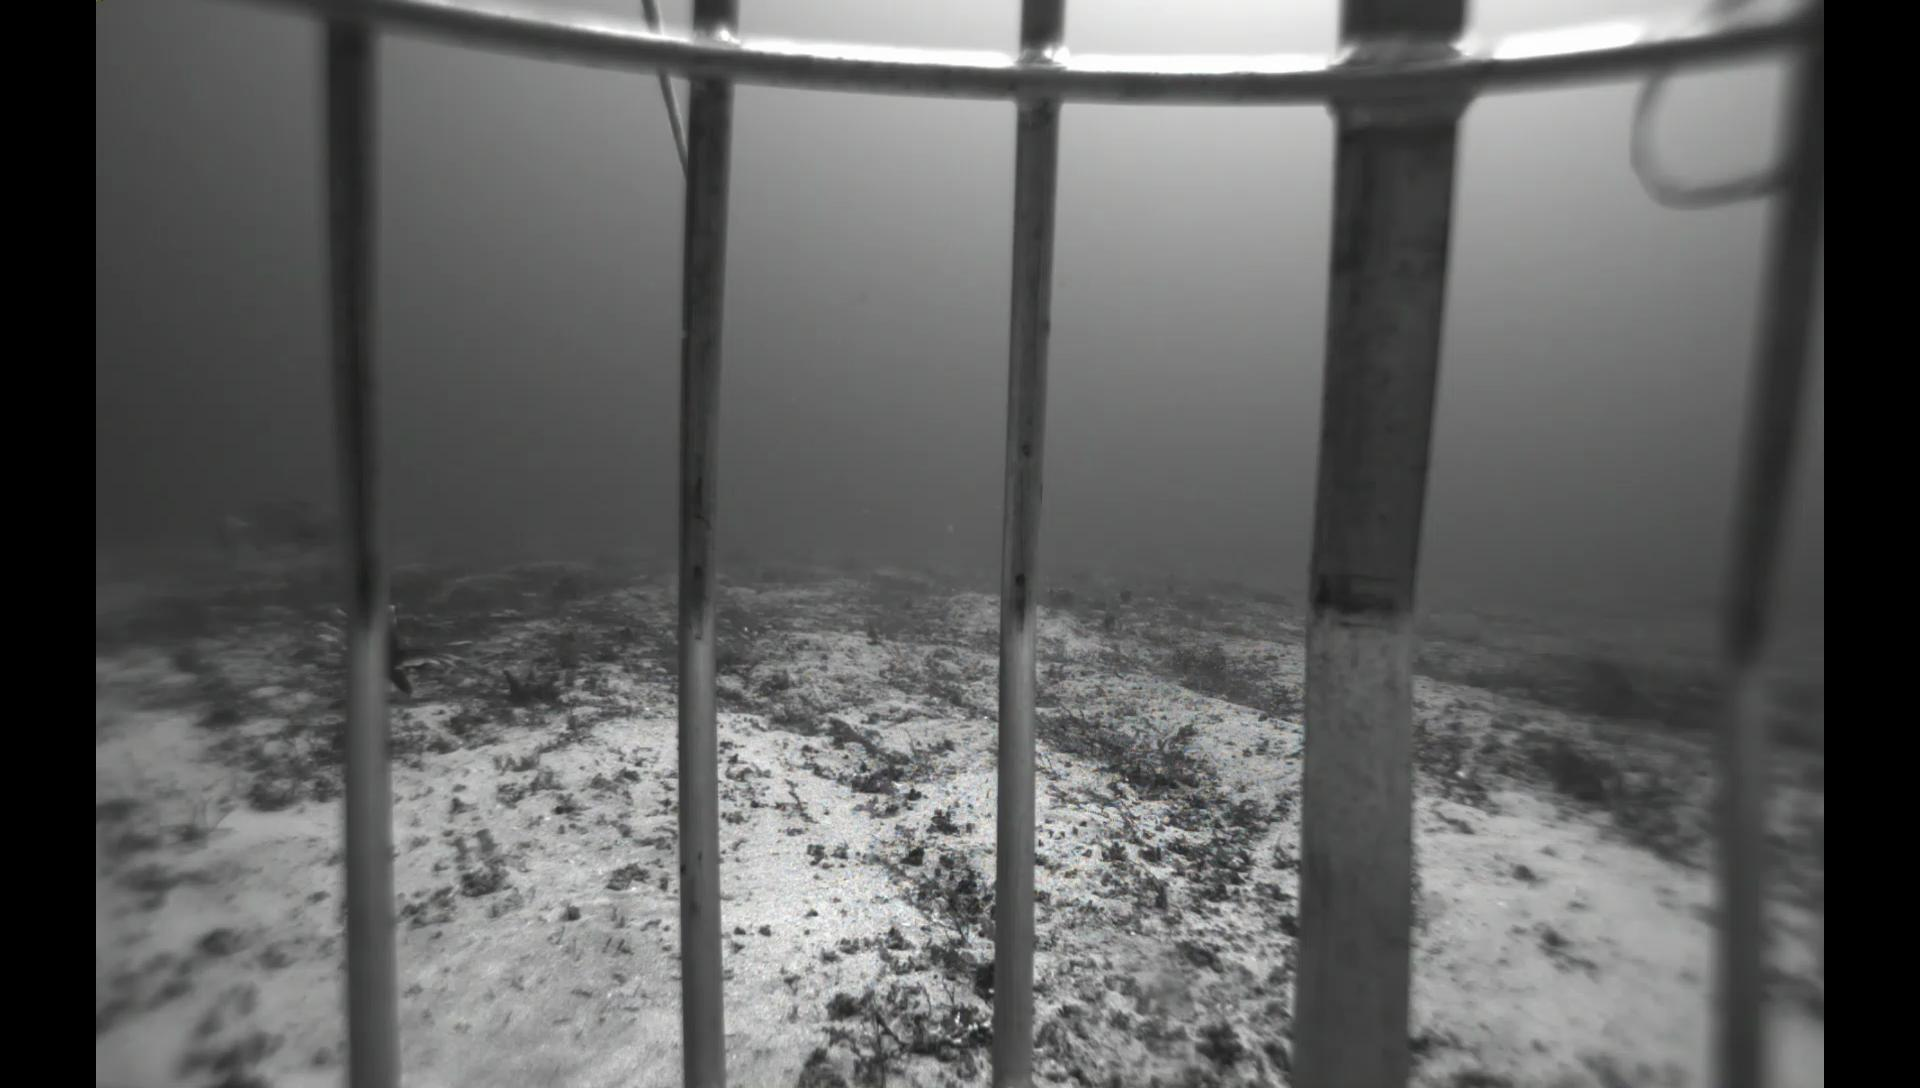EPINEPHELUSMORIO-170021211: (207, 488, 340, 559)
PTEROIS-168011900: (302, 586, 483, 706)
